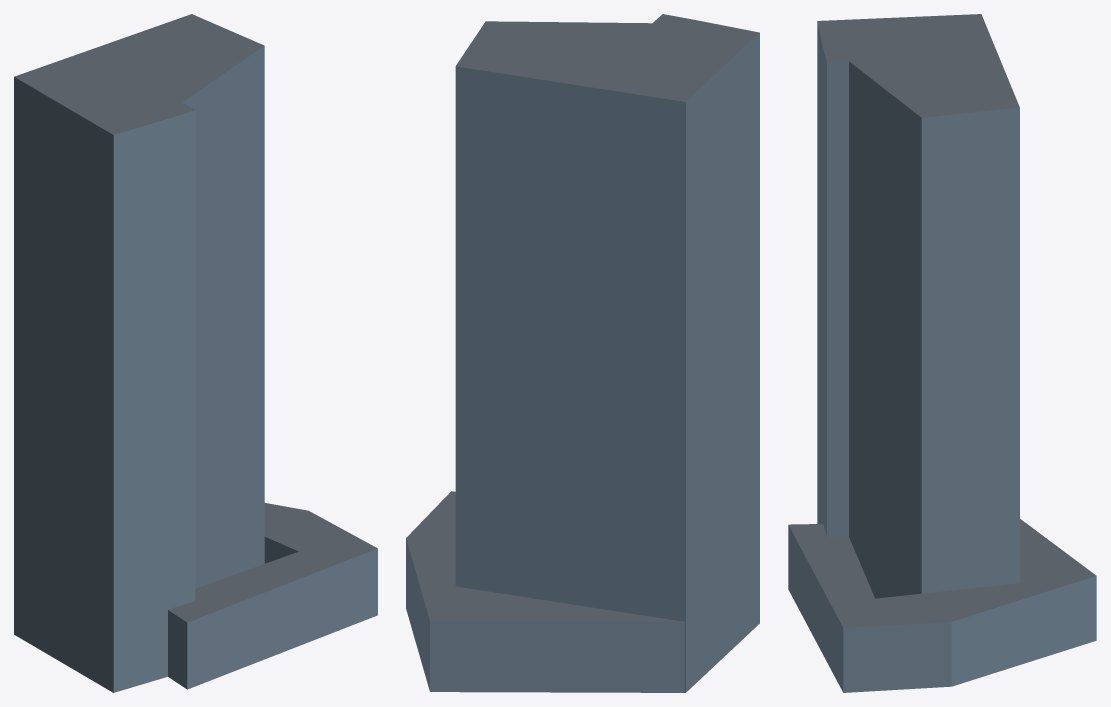
3 renders of one model, left to right at view 1: azimuth 30°, elevation 25°; view 2: azimuth 150°, elevation 25°; view 3: azimuth 270°, elevation 25°, orthographic. The views are drawn at different scales.
Parts seen in each view (by area): view 1: HP-w369342594; view 2: HP-w369342594; view 3: HP-w369342594.
Part boxes in pixels (x1,y1,x2,y2): HP-w369342594: (14,14,377,692); HP-w369342594: (406,14,759,692); HP-w369342594: (788,14,1096,692).
Size of the model in its own units: 82.34 by 150 by 77.54.
